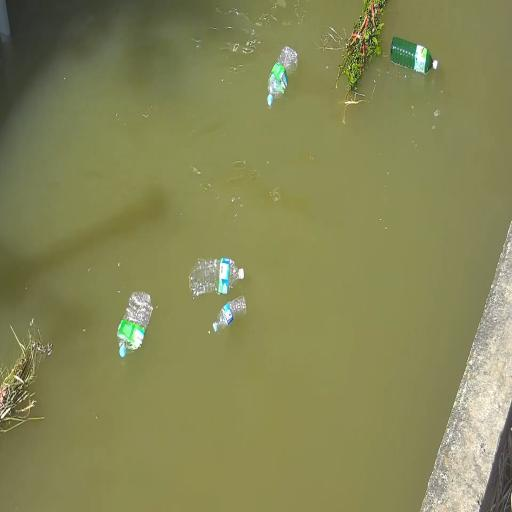plastic: (260, 34, 302, 110), (180, 248, 248, 294), (116, 284, 150, 360), (384, 38, 442, 82), (204, 284, 249, 332)
twig: (334, 0, 388, 91), (0, 326, 43, 429)
